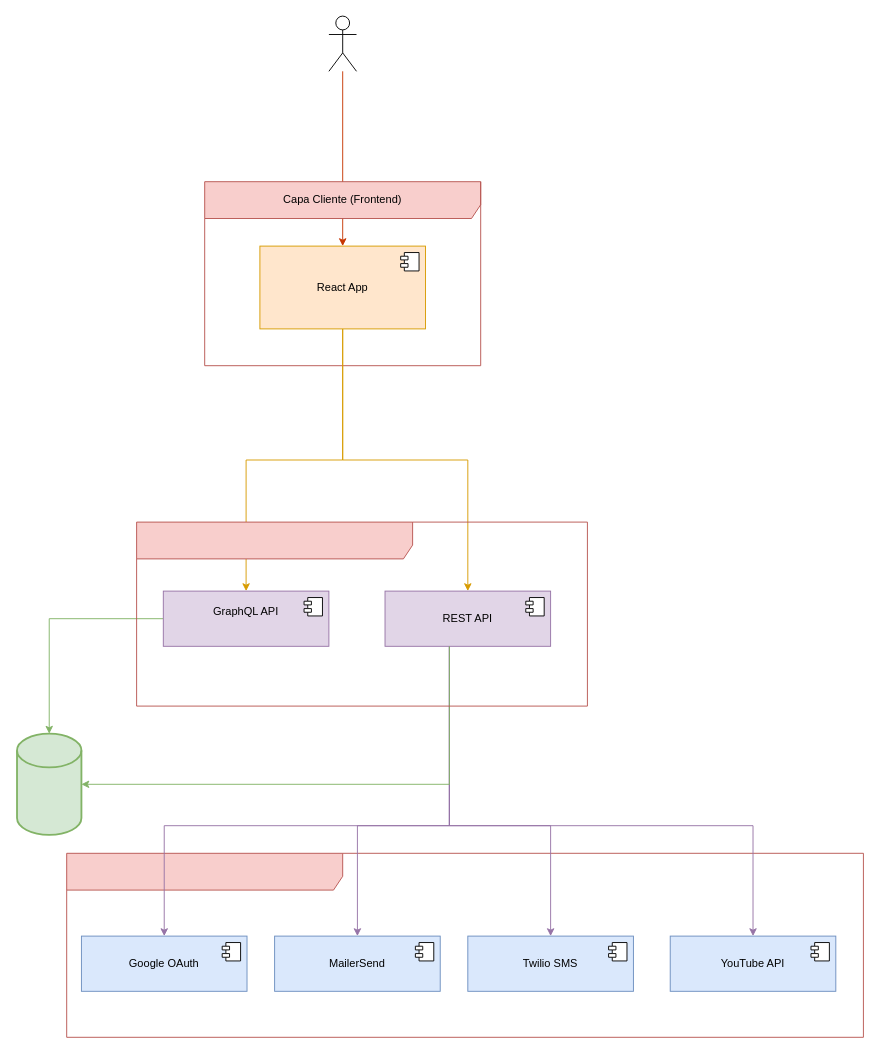
Some shapes in this 880 by 1053 pixel diagram are drawn without their labels. Each missing label, with the box of its shape:
Capa Lógica (Backend): (136, 521, 587, 706)
MongoDB: (16, 732, 82, 835)
Servicios Externos: (66, 852, 863, 1037)
Usuario Web: (328, 15, 356, 71)
